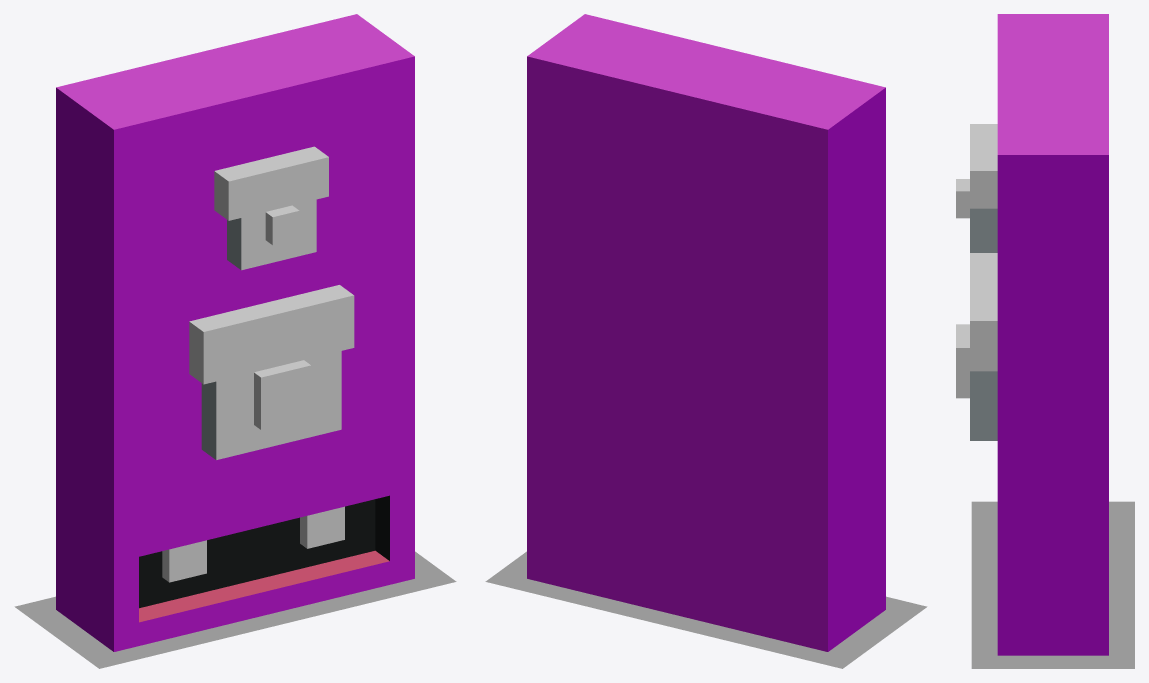
File: EN_TallBit_Pink.fbx
3 views of the same model, side by side, from view 1: azimuth 30°, elevation 25°; view 2: azimuth 150°, elevation 25°; view 3: azimuth 270°, elevation 25° (orthographic). The views are drawn at different scales.
Visible parts, largest first — view 1: Body, Eyebrow, Mouth, Eye, Shadow, Eyebrow_SM, Eye_SM, Pupil, Pupil_SM; view 2: Body, Shadow; view 3: Body, Shadow, Eyebrow, Eyebrow_SM, Eye, Eye_SM, Pupil, Pupil_SM.
Boxes of the visible parts, left/top/right/bottom form: Body: left=56, top=14, right=414, bottom=651; Eyebrow: left=189, top=285, right=354, bottom=384; Mouth: left=139, top=550, right=389, bottom=645; Eye: left=201, top=351, right=341, bottom=460; Shadow: left=14, top=551, right=456, bottom=668; Eyebrow_SM: left=214, top=146, right=328, bottom=220; Eye_SM: left=227, top=199, right=316, bottom=270; Pupil: left=254, top=360, right=311, bottom=429; Pupil_SM: left=265, top=205, right=299, bottom=245; Body: left=527, top=14, right=885, bottom=651; Shadow: left=485, top=551, right=927, bottom=668; Body: left=997, top=14, right=1108, bottom=655; Shadow: left=971, top=501, right=1134, bottom=668; Eyebrow: left=970, top=253, right=997, bottom=371; Eyebrow_SM: left=970, top=124, right=997, bottom=208; Eye: left=970, top=371, right=997, bottom=440; Eye_SM: left=970, top=208, right=997, bottom=252; Pupil: left=956, top=324, right=969, bottom=398; Pupil_SM: left=956, top=179, right=969, bottom=218.
Bounding box in the file's own units: 71.23 × 100 × 32.18.
